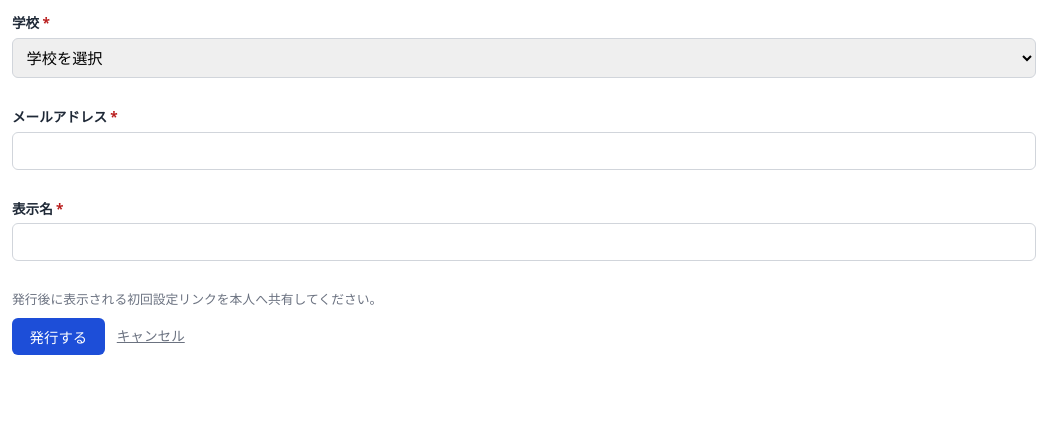
Scenario: SystemStaffCreateForm (#508 system_admin 発行フォーム) › 空送信は項目別エラー (学校未選択 + email/表示名) を出し、action を呼ばない
Click the button "発行する" at (58, 336), box [12,318,105,355]
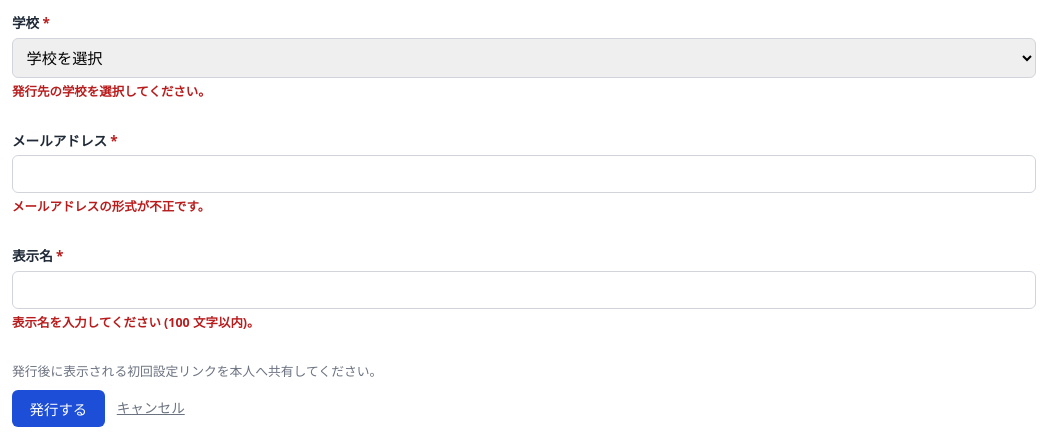
Expected: the text "発行先の学校を選択してください。" is shown, [12,83,211,100]
Expected: the text "メールアドレスの形式が不正です。" is shown, [12,198,210,216]
Expected: the text "表示名を入力してください (100 文字以内)。" is shown, [12,314,260,331]
